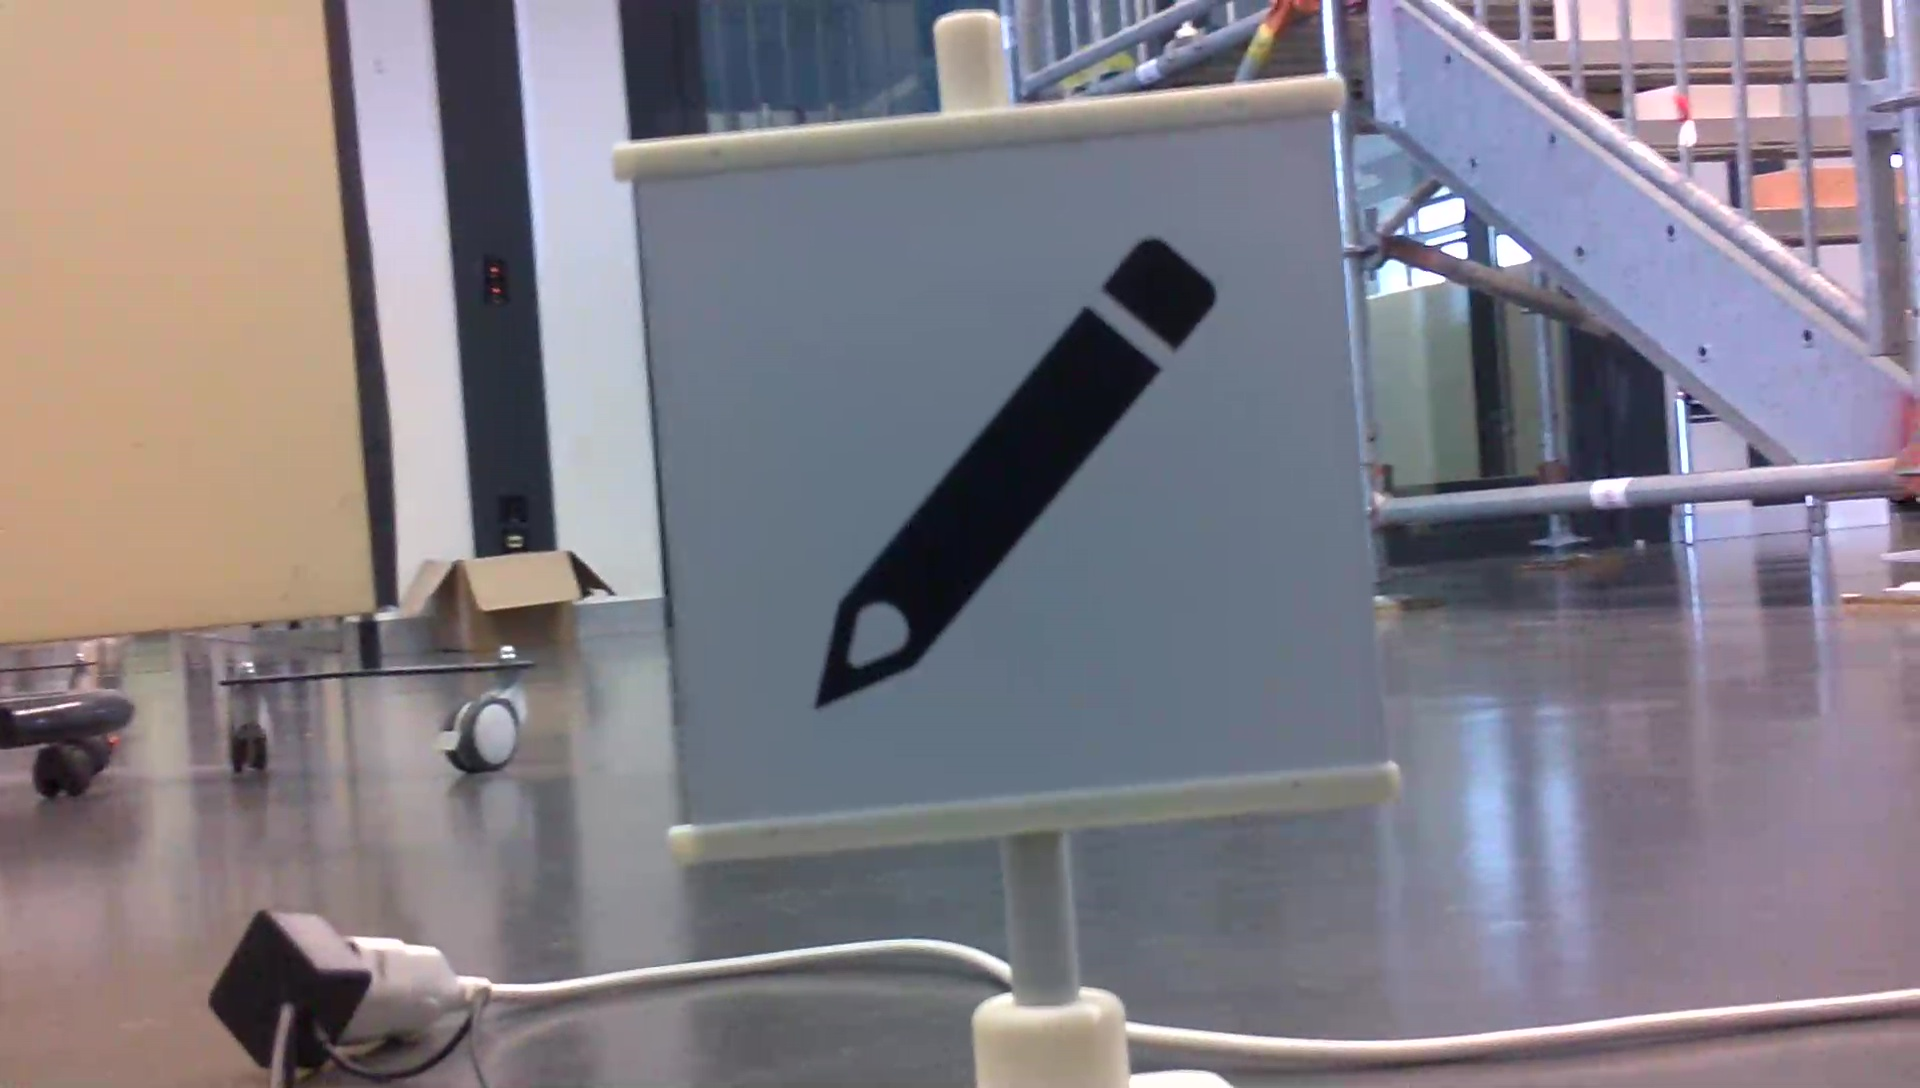pencil: (789, 226, 1222, 723)
